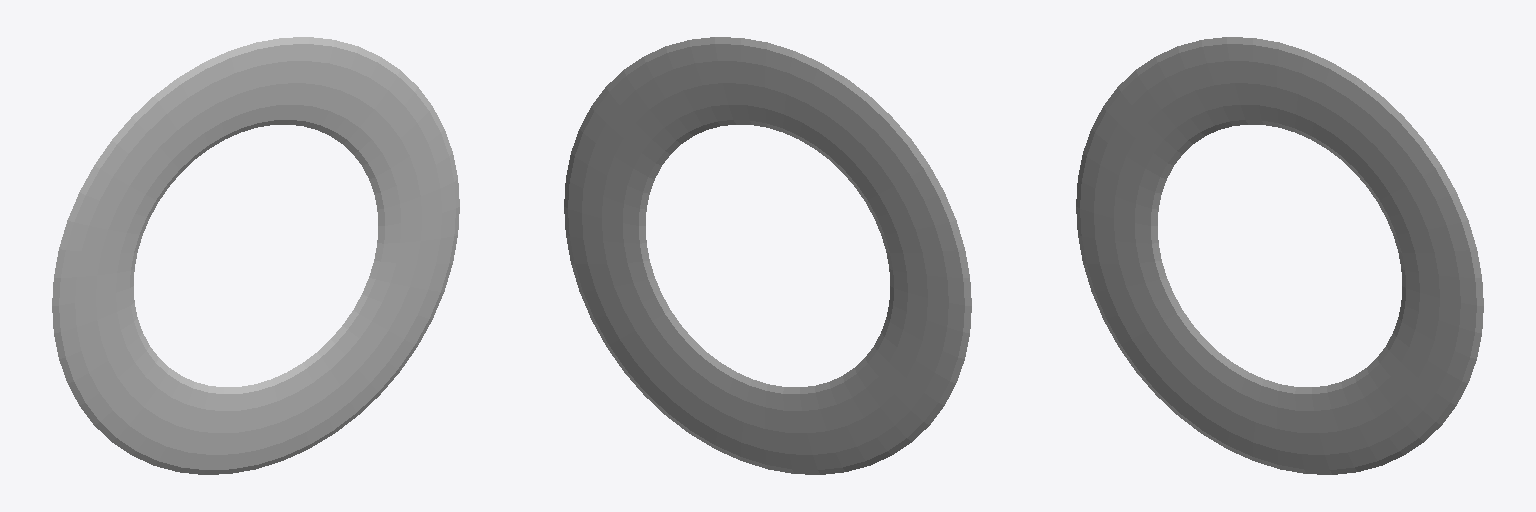
The model's file is gimzorot.obj.
The picture shows the model from 3 angles: view 1: azimuth 30°, elevation 25°; view 2: azimuth 150°, elevation 25°; view 3: azimuth 330°, elevation 25°; orthographic projection.
Parts seen in each view (by area): view 1: Torus; view 2: Torus; view 3: Torus.
Boxes of the visible parts, x1,y1,x2,y2 form: Torus: [52, 37, 459, 474]; Torus: [564, 37, 971, 474]; Torus: [1076, 37, 1483, 474].
Size of the model in its own units: 2.99 by 2.99 by 0.0785.